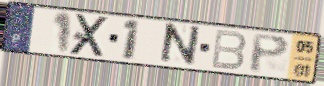1: (50, 12, 71, 56), (121, 18, 140, 63)
B: (209, 28, 249, 72)
N: (157, 22, 203, 68)
P: (249, 32, 292, 75)
X: (67, 13, 113, 59)
